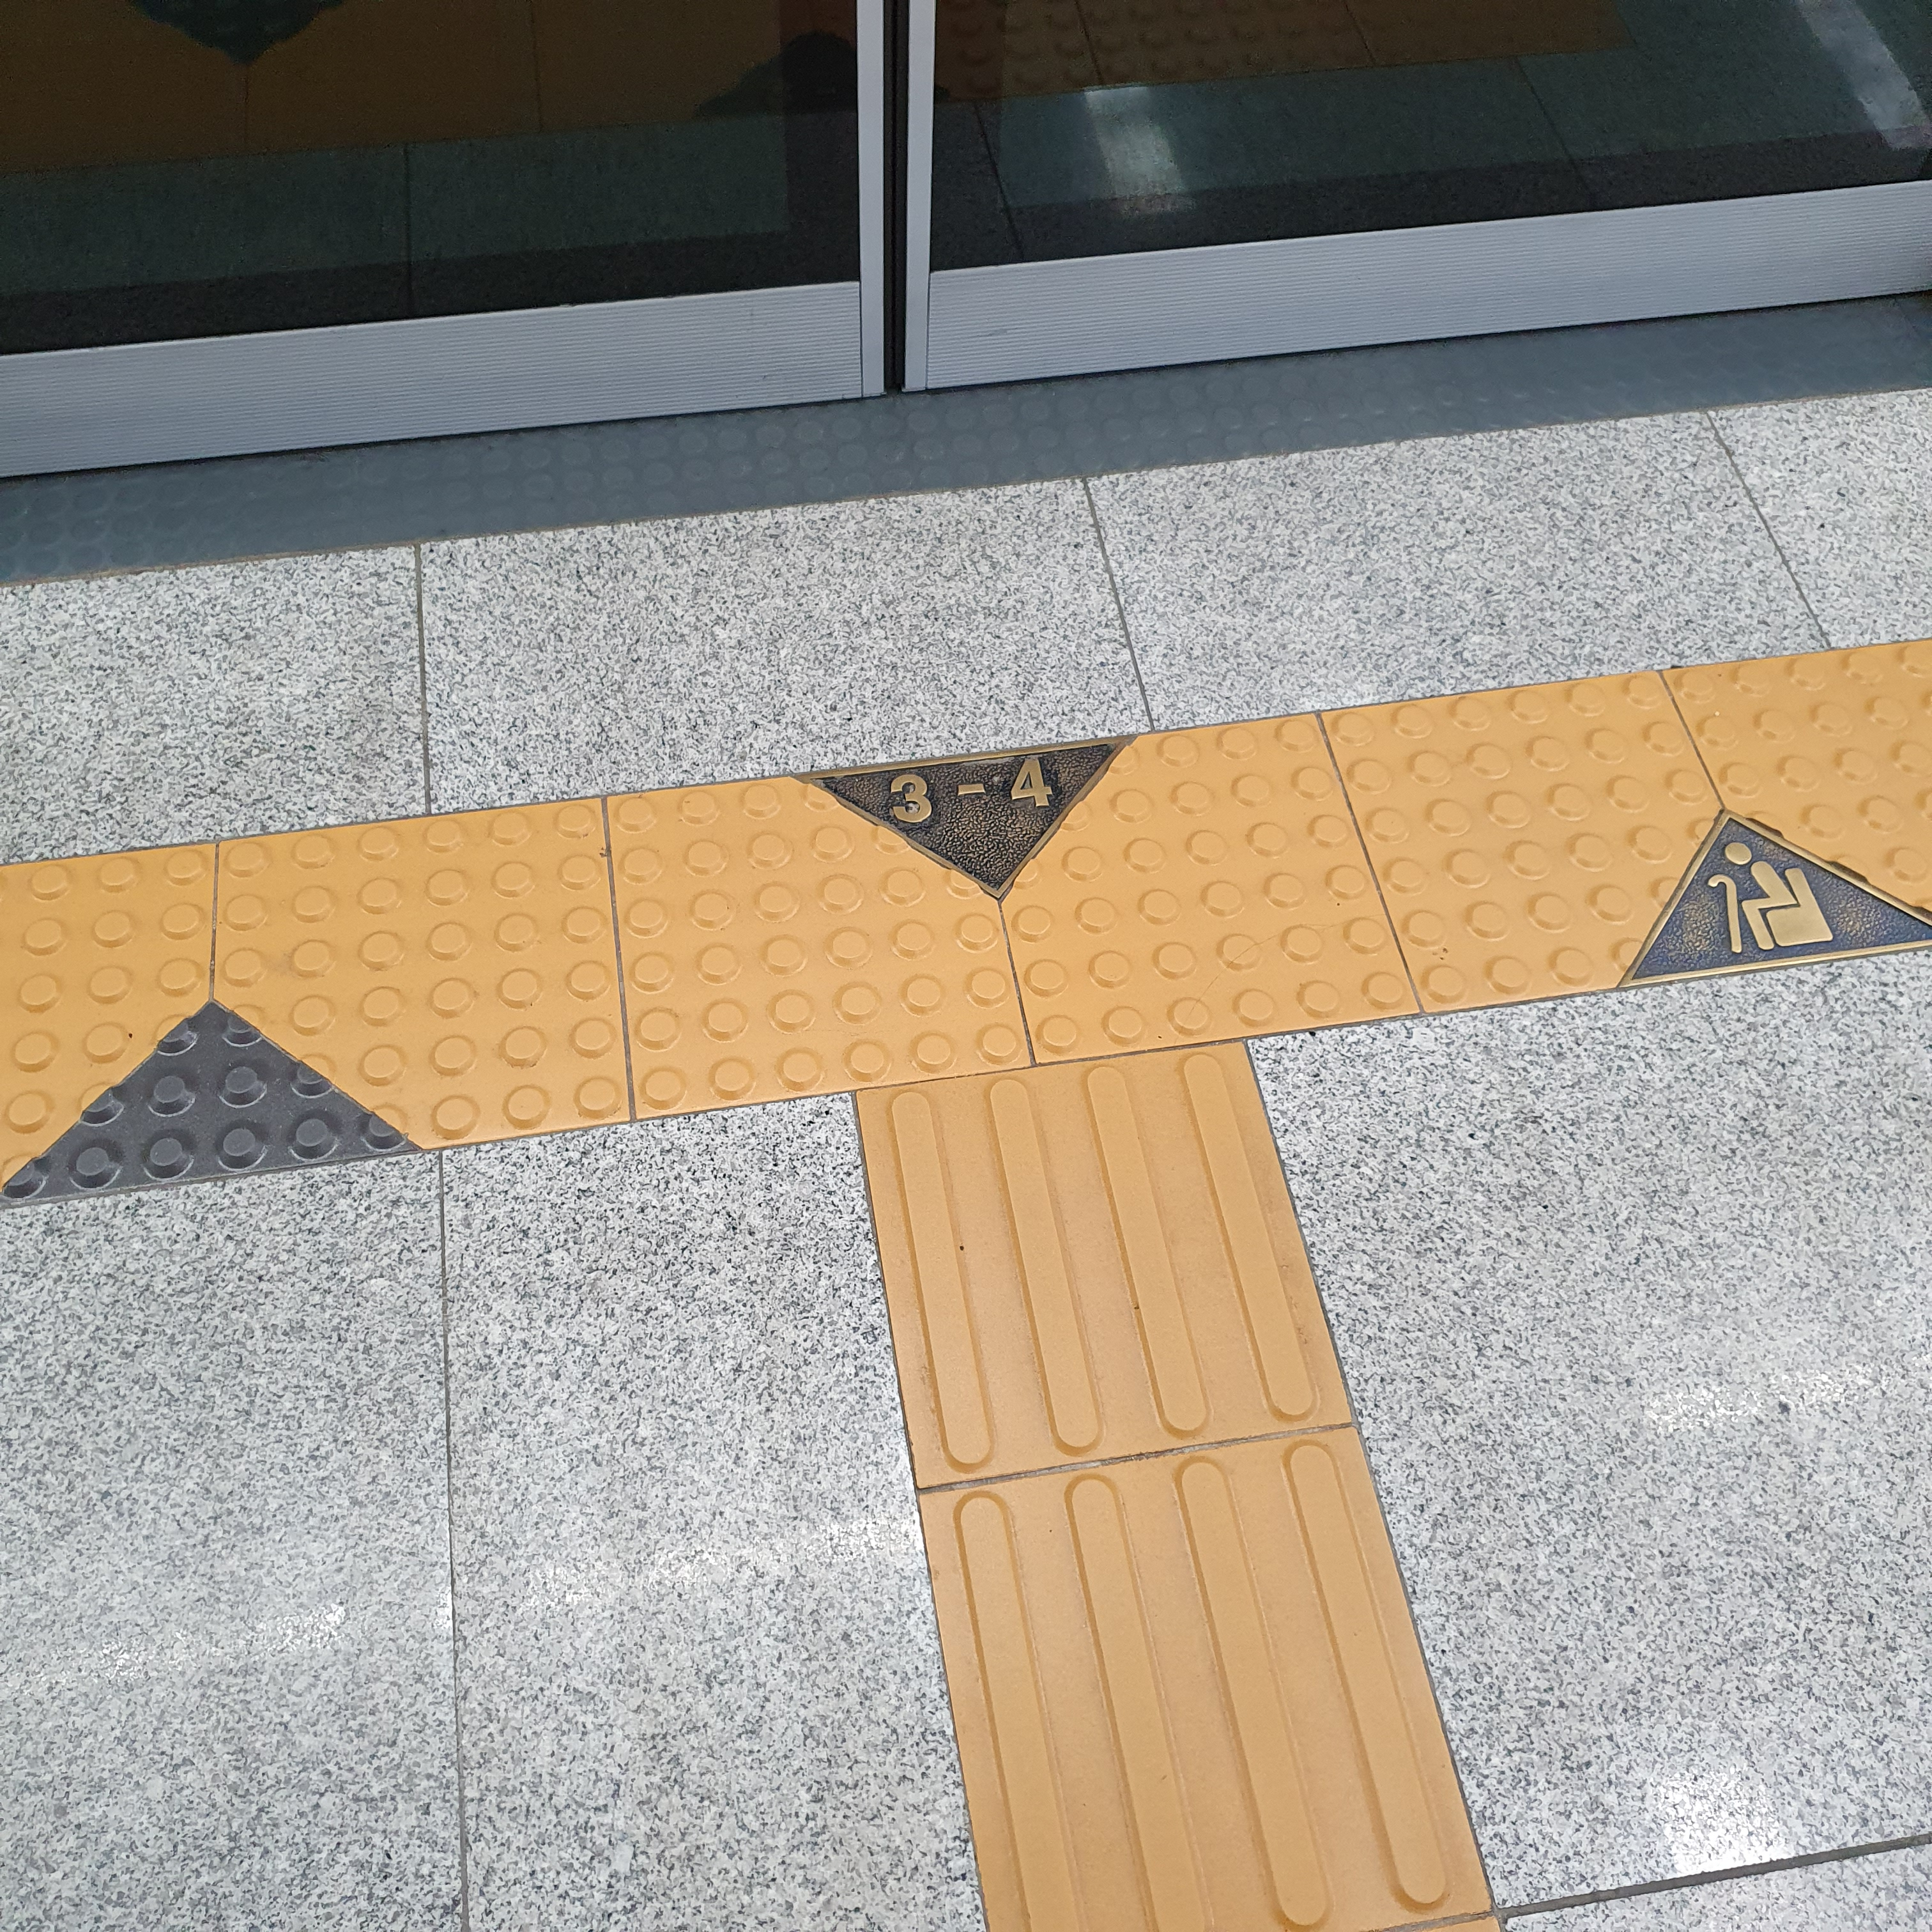guideBlock: (902, 1468, 1458, 1930), (895, 1090, 1320, 1422)
warningBlock: (219, 821, 633, 1132), (989, 748, 1391, 1056), (1327, 699, 1718, 993), (612, 798, 1028, 1058), (4, 855, 232, 1191), (1688, 672, 1932, 957)
